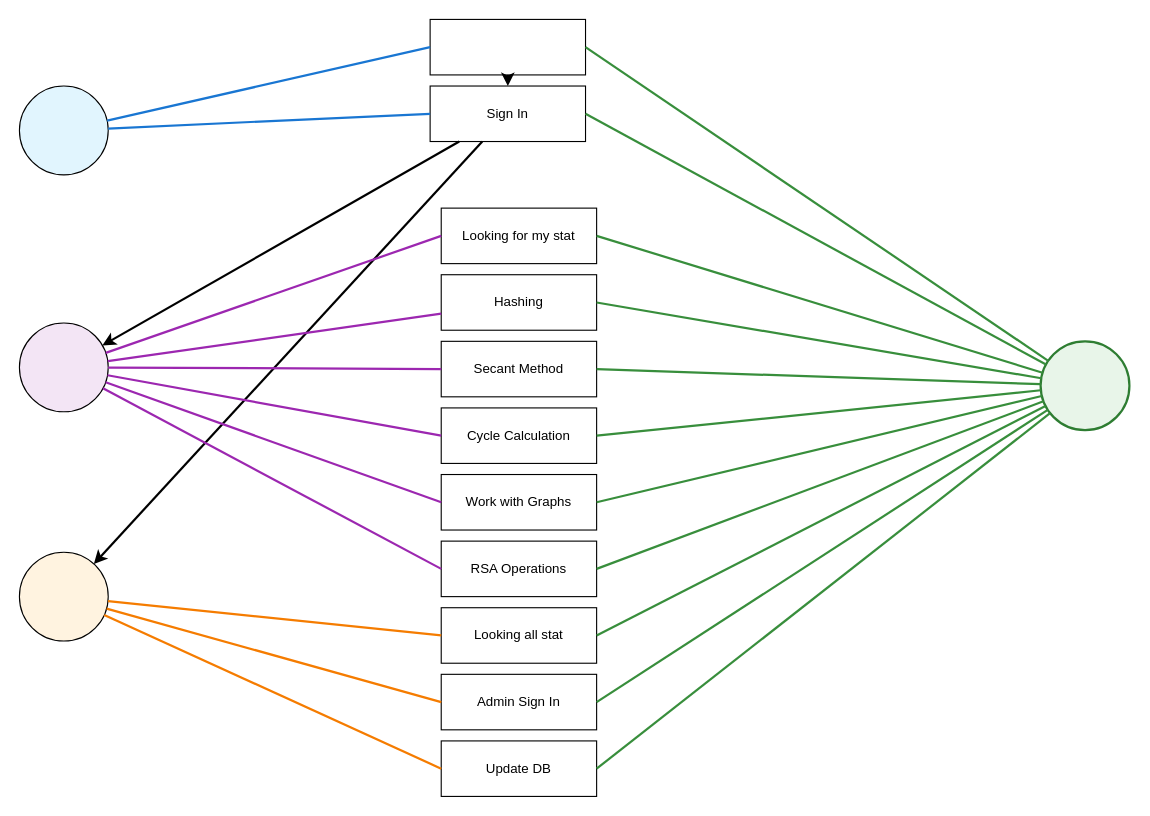
This 1150x816 diagram has some shape labels left out. The centre of each missing label's shape, as x and y in pixels:
"Admin" goes at point 63,596.
"Guest" goes at point 63,130.
"Server" goes at point 1084,385.
"Sign Up" goes at point 507,46.
"User" goes at point 63,367.
